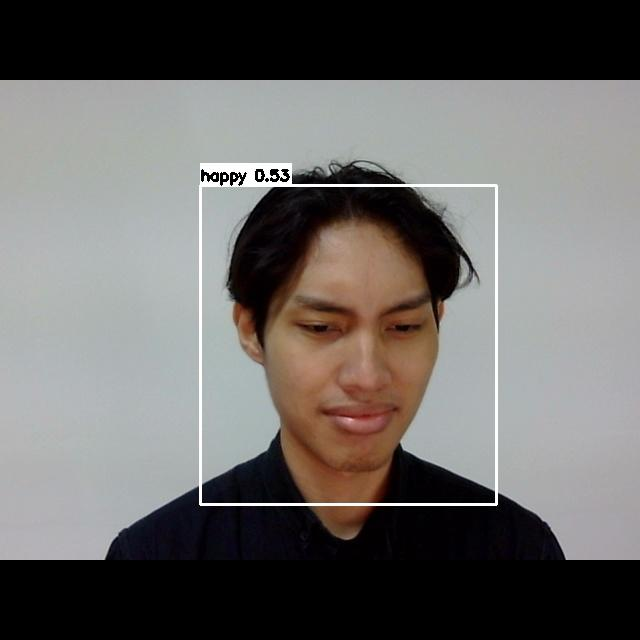Disgust: (266, 270, 453, 450)
